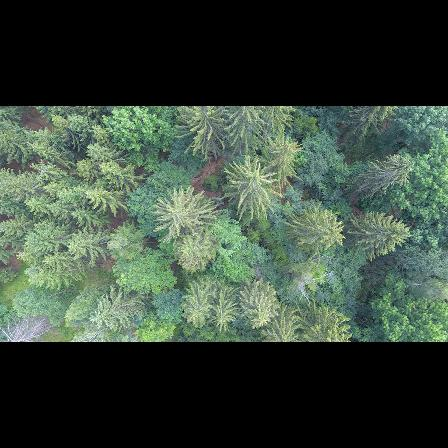Dead: (0, 312, 57, 342)
